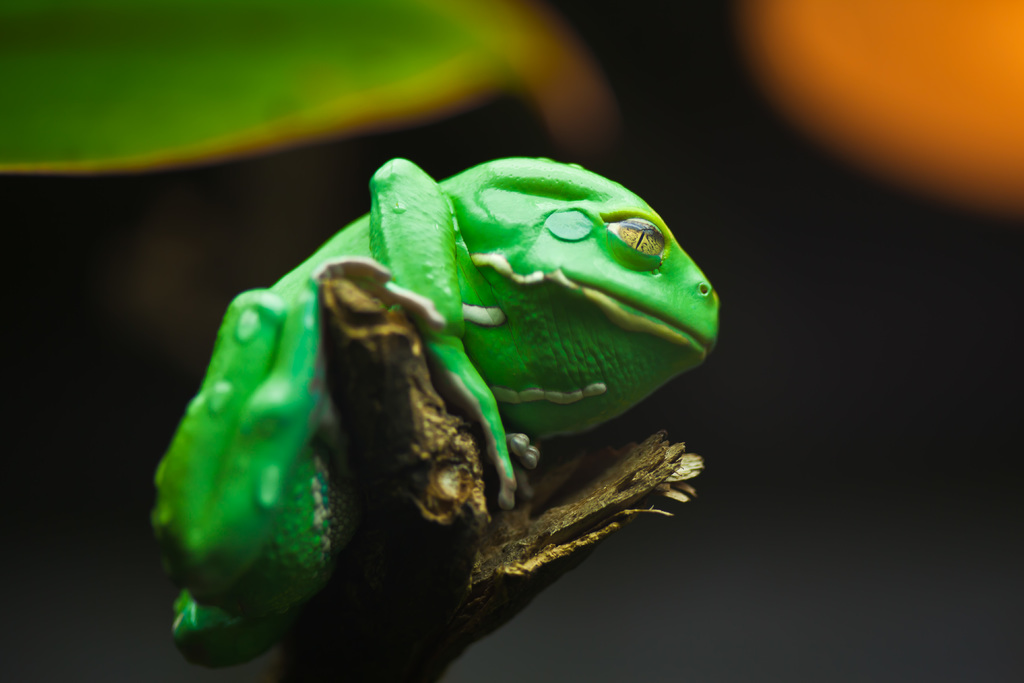person: (95, 0, 625, 171)
